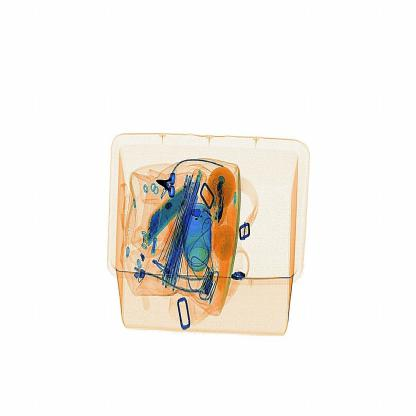gun: (154, 167, 182, 198)
